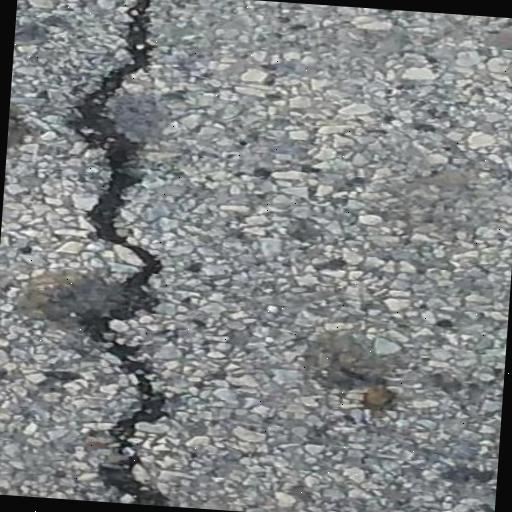spalling: (42, 0, 195, 500)
